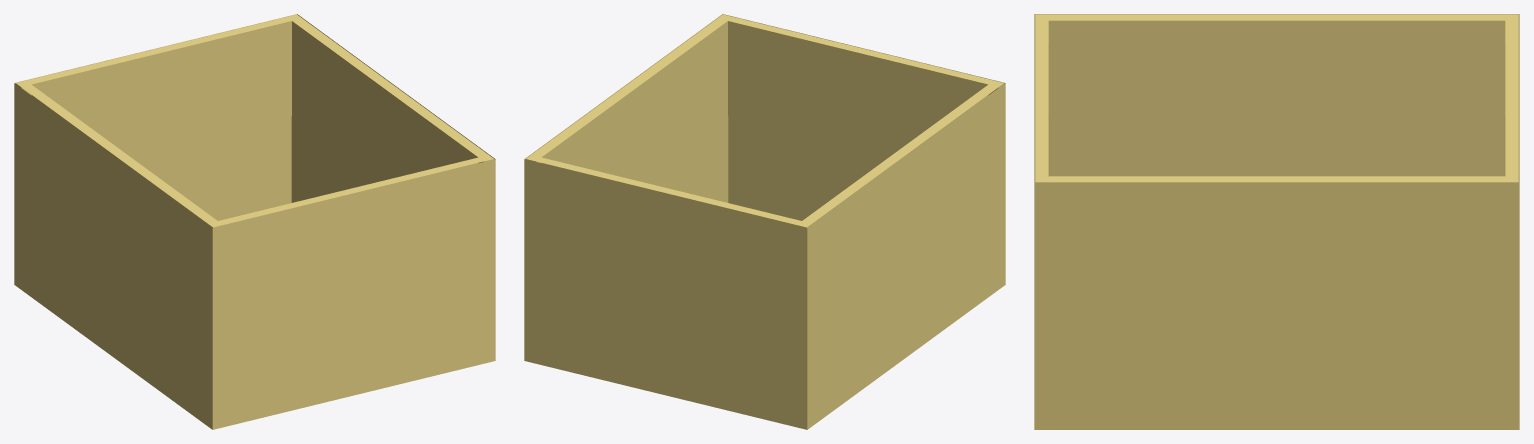
3 renders of one model, left to right at view 1: azimuth 30°, elevation 25°; view 2: azimuth 150°, elevation 25°; view 3: azimuth 270°, elevation 25°, orthographic. The views are drawn at different scales.
Parts seen in each view (by area): view 1: Cubo_1; view 2: Cubo_1; view 3: Cubo_1.
Part boxes in pixels (box(x1,y1,x2,y2)): Cubo_1: box(14, 14, 495, 429); Cubo_1: box(524, 14, 1005, 429); Cubo_1: box(1034, 14, 1519, 429).
Size of the model in its own units: 205 by 140 by 249.
